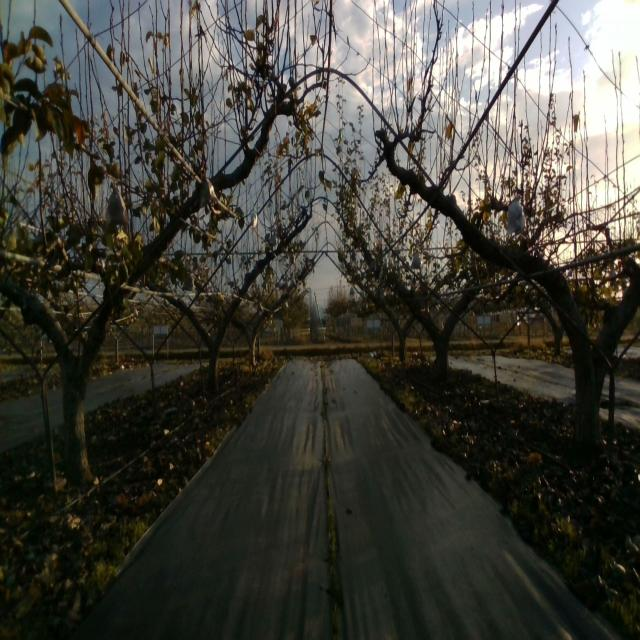pearbags: (106, 180, 129, 230), (506, 194, 527, 236), (197, 175, 217, 208), (411, 251, 422, 271)
